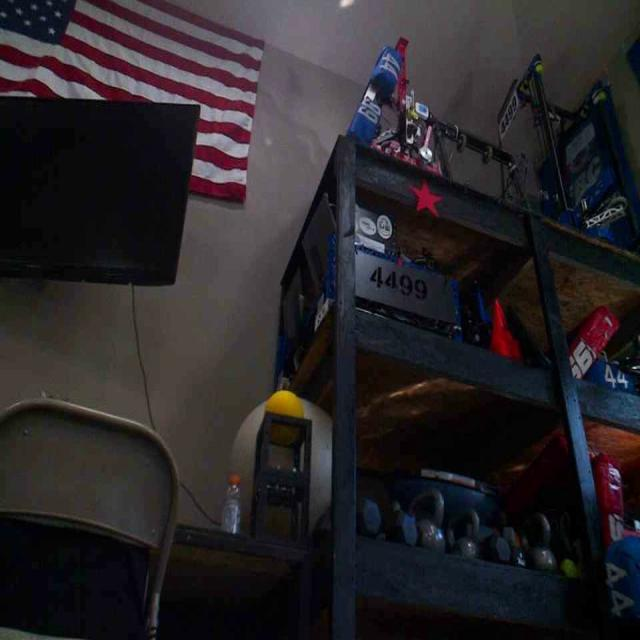star_red: (407, 180, 442, 215)
